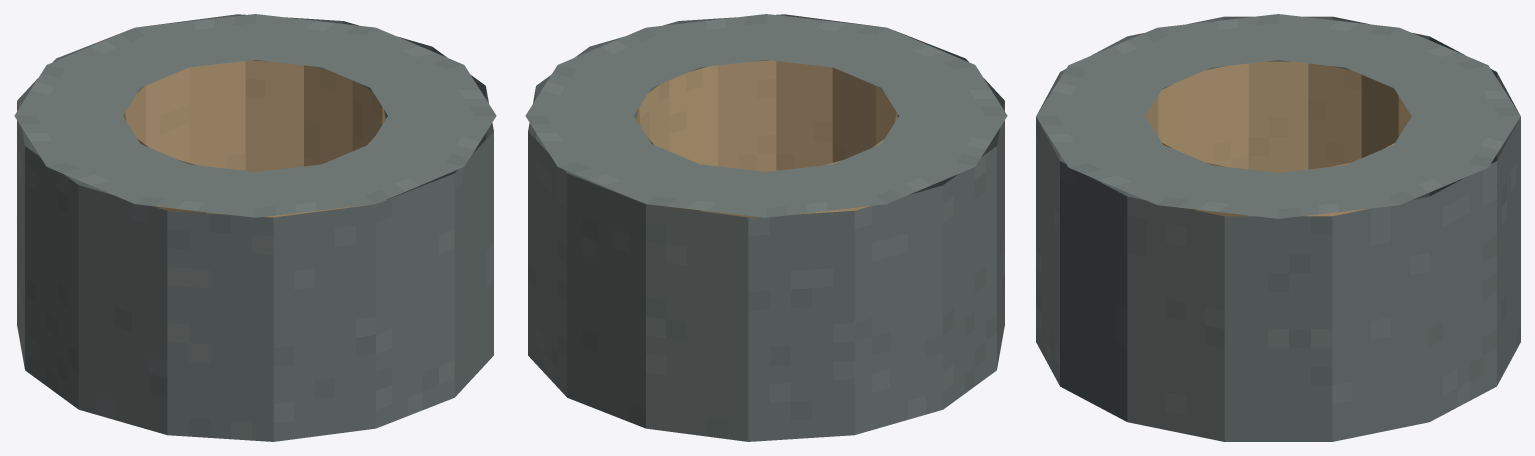
Rendered from solder_wire.glb.
The picture shows the model from 3 angles, left to right: view 1: azimuth 30°, elevation 25°; view 2: azimuth 150°, elevation 25°; view 3: azimuth 270°, elevation 25°; orthographic projection.
Visible parts, largest first — view 1: block_rolled exterior, block_card core, block_rolled layers 3, block_rolled layers 4, block_rolled layers 9, block_rolled layers 10, block_rolled layers 2, block_rolled layers 5, block_rolled layers 8, block_rolled layers 11, block_rolled layers 0, block_rolled layers 7 (+2 smaller); view 2: block_rolled exterior, block_card core, block_rolled layers 7, block_rolled layers 8, block_rolled layers 1, block_rolled layers 2, block_rolled layers 6, block_rolled layers 9, block_rolled layers 0, block_rolled layers 3, block_rolled layers 4, block_rolled layers 11 (+2 smaller); view 3: block_rolled exterior, block_card core, block_rolled layers 3, block_rolled layers 8, block_rolled layers 2, block_rolled layers 9, block_rolled layers 0, block_rolled layers 5, block_rolled layers 6, block_rolled layers 11, block_rolled layers 4, block_rolled layers 7 (+2 smaller).
Part boxes in pixels (x1,y1,x2,y2): block_rolled exterior: (17, 14, 493, 441); block_card core: (124, 60, 385, 217); block_rolled layers 3: (255, 164, 375, 217); block_rolled layers 4: (135, 164, 255, 217); block_rolled layers 9: (135, 14, 255, 67); block_rolled layers 10: (255, 14, 375, 67); block_rolled layers 2: (322, 144, 463, 203); block_rolled layers 5: (47, 144, 188, 203); block_rolled layers 8: (47, 28, 188, 87); block_rolled layers 11: (322, 28, 463, 87); block_rolled layers 0: (370, 65, 496, 115); block_rolled layers 7: (14, 65, 140, 115); block_rolled exterior: (528, 14, 1004, 441); block_card core: (636, 60, 897, 217); block_rolled layers 7: (766, 164, 886, 217); block_rolled layers 8: (646, 164, 766, 217); block_rolled layers 1: (646, 14, 766, 67); block_rolled layers 2: (766, 14, 886, 67); block_rolled layers 6: (833, 144, 974, 203); block_rolled layers 9: (558, 144, 699, 203); block_rolled layers 0: (558, 28, 699, 87); block_rolled layers 3: (833, 28, 974, 87); block_rolled layers 4: (881, 65, 1007, 115); block_rolled layers 11: (525, 65, 651, 115); block_rolled exterior: (1036, 16, 1520, 441); block_card core: (1145, 61, 1411, 216); block_rolled layers 3: (1036, 65, 1162, 116); block_rolled layers 8: (1394, 65, 1520, 116); block_rolled layers 2: (1036, 116, 1162, 167); block_rolled layers 9: (1394, 116, 1520, 167); block_rolled layers 0: (1157, 165, 1278, 218); block_rolled layers 5: (1157, 14, 1278, 67); block_rolled layers 6: (1278, 14, 1399, 67); block_rolled layers 11: (1278, 165, 1399, 218); block_rolled layers 4: (1069, 28, 1211, 87); block_rolled layers 7: (1345, 28, 1487, 87).
Size of the model in its own units: 0.074 by 0.038 by 0.074.
2 materials, 2 textured.
